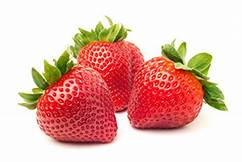Fresa: (34, 63, 122, 147), (126, 52, 207, 133), (74, 33, 145, 115)
